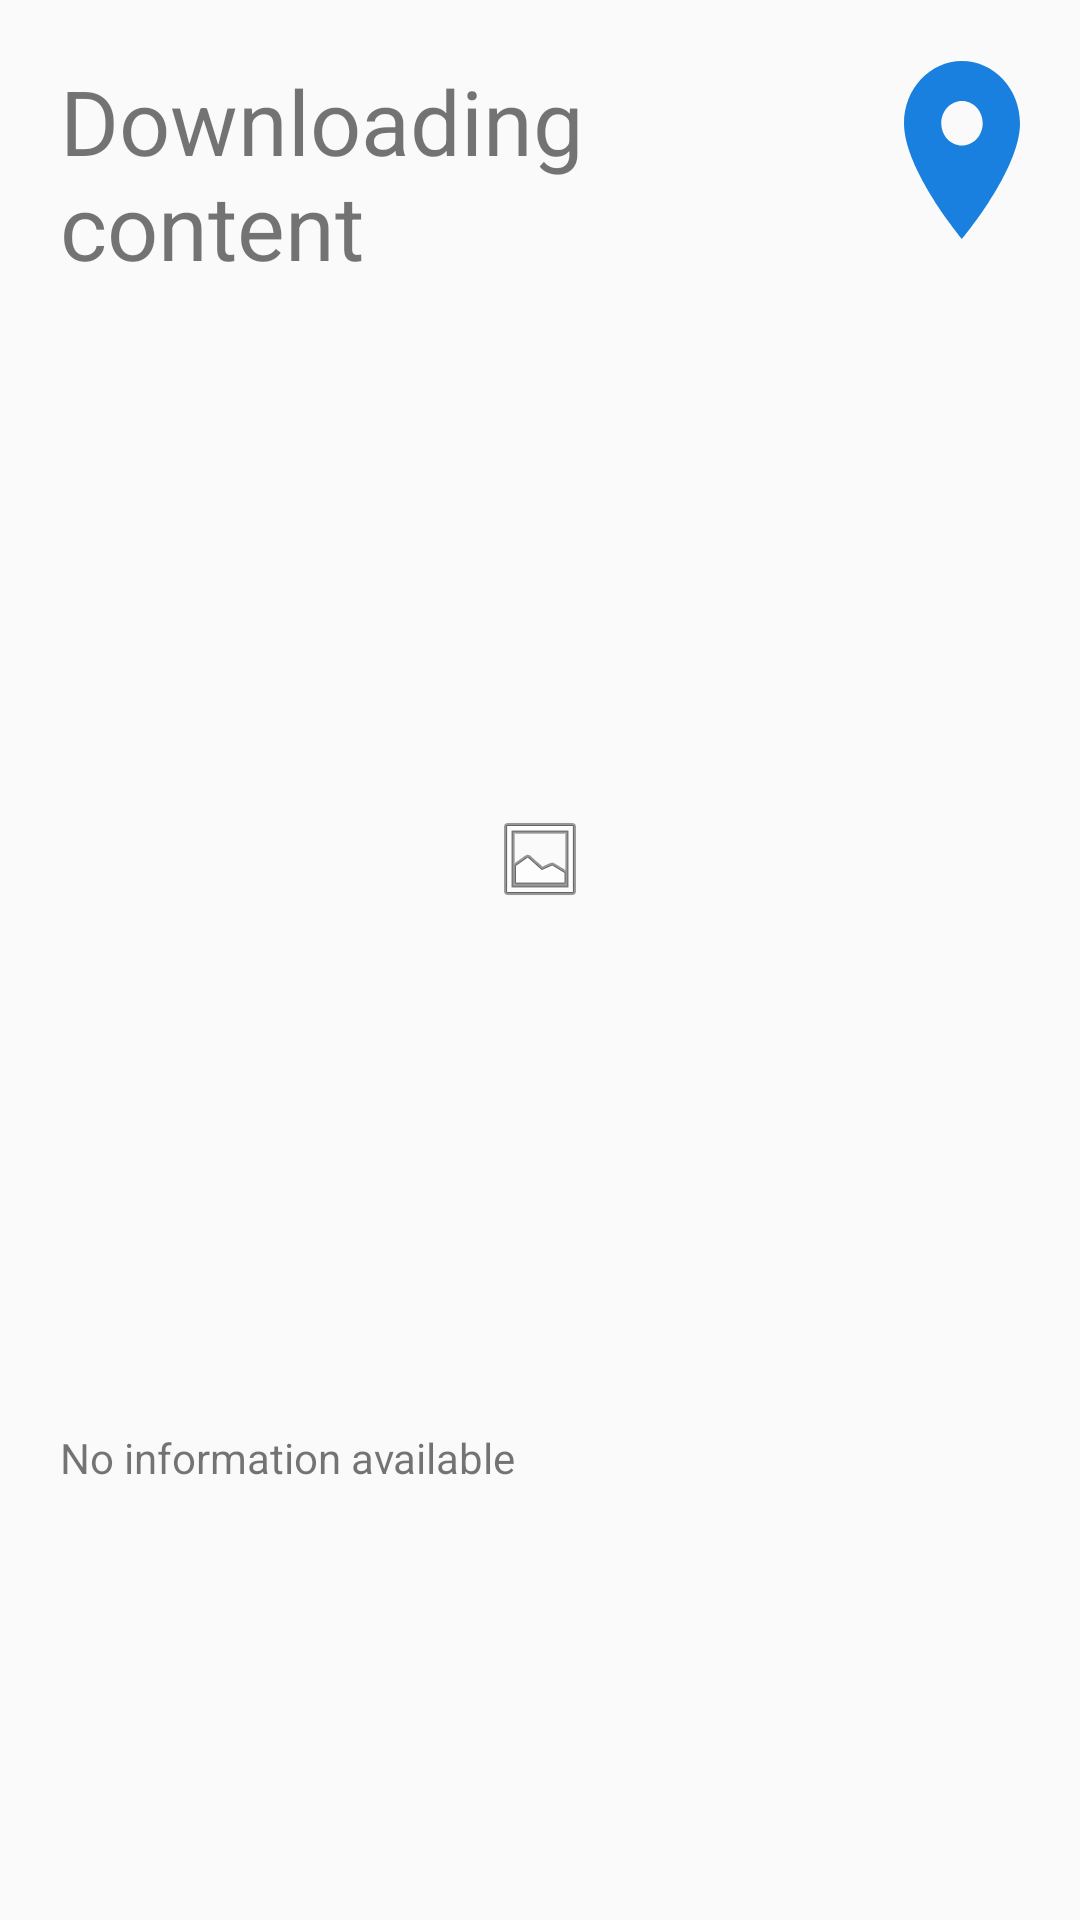

Where icons sit on this 1080*1920 app screen, as (x1, y1, x2, y2):
map pin: (904, 61, 1020, 239)
